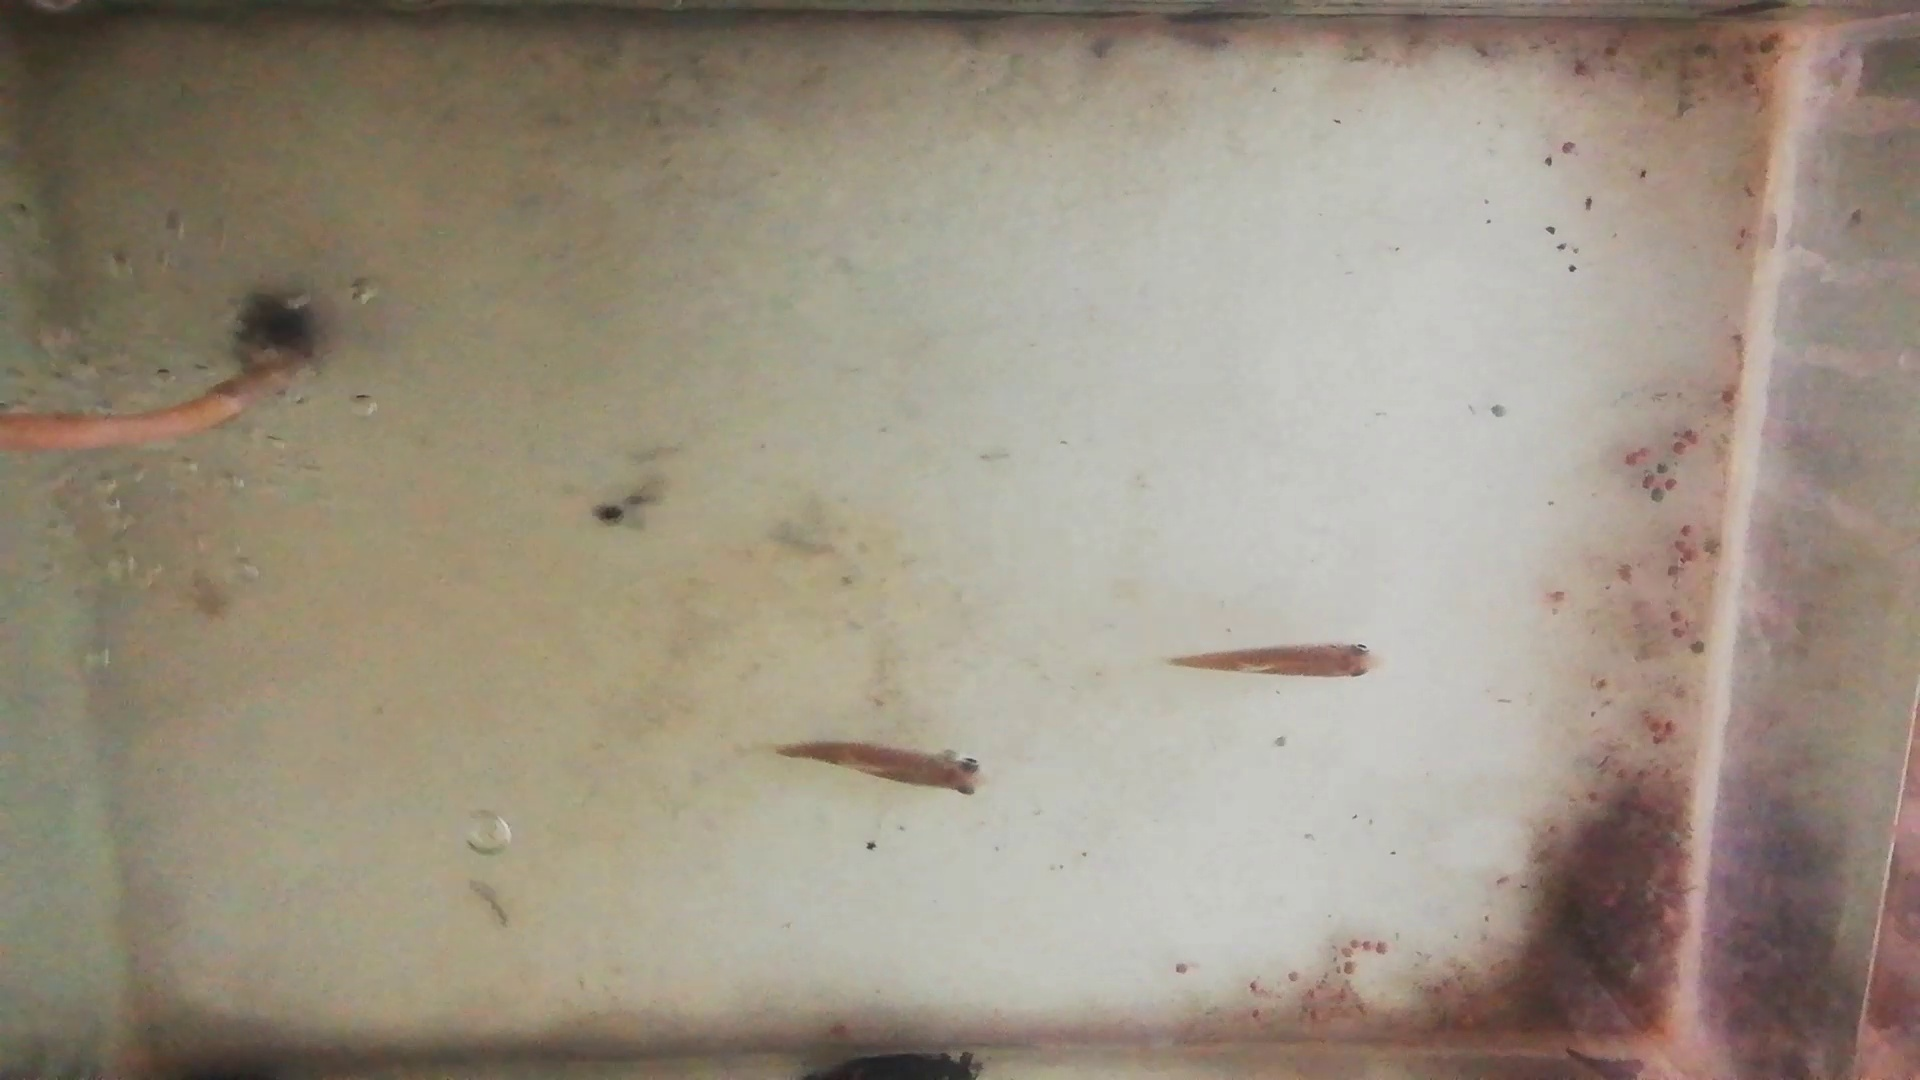fish: (774, 742, 986, 799), (1168, 642, 1379, 680)
